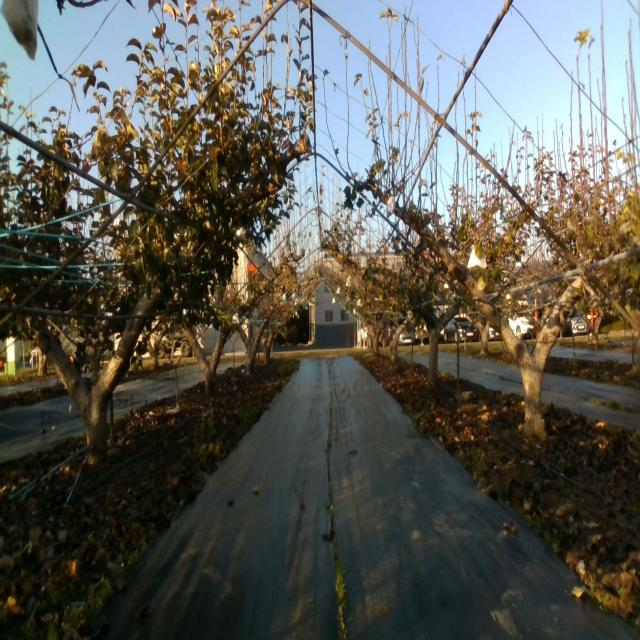pearbags: (0, 0, 39, 59), (467, 244, 487, 270), (233, 220, 247, 243), (386, 196, 395, 218)
